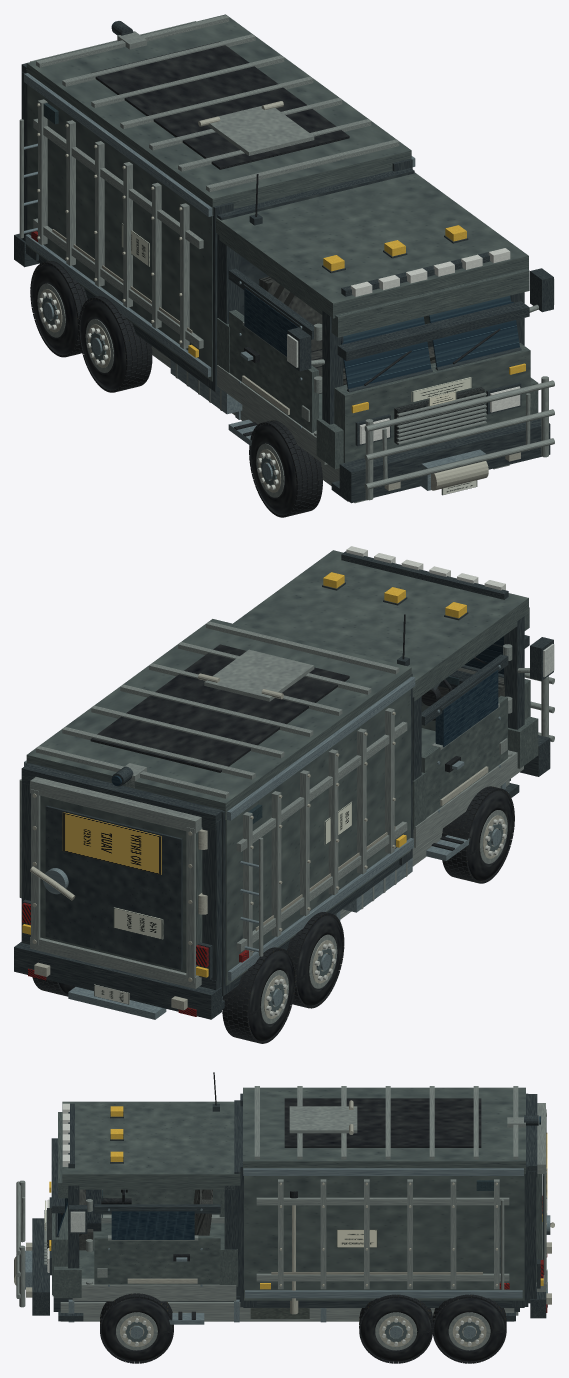
The model's file is PZ_Ironveil6_Armored_Truck_Hero.glb.
3 views of the same model, one above another, from view 1: azimuth 30°, elevation 25°; view 2: azimuth 150°, elevation 25°; view 3: azimuth 270°, elevation 25° (orthographic). The views are drawn at different scales.
Visible parts, largest first — view 1: CAB_ROOF_DOUBLE_SKIN, VAULT_ROOF_DOUBLE_ARMOR, VAULT_LEFT_SIDE_ARMOR, VAULT_ROOF_WALKWAY, CAB_COWL_FRONT, FRONT_BUMPER_ARMOR, CAB_ROOF_SLOPE_FRONT, CAB_DOOR_L_ARMOR_PANEL, CAB_FRONT_VISOR, VAULT_ROOF_HATCH_COVER, CAB_WINDSHIELD_L_BALLISTIC_GLASS, CAB_WINDSHIELD_R_BALLISTIC_GLASS (+44 smaller); view 2: CAB_ROOF_DOUBLE_SKIN, VAULT_ROOF_DOUBLE_ARMOR, VAULT_LEFT_SIDE_ARMOR, VAULT_DOOR_EXTERNAL_SAFETY_PANEL, VAULT_ROOF_WALKWAY, REAR_BUMPER_ARMOR, CAB_DOOR_L_ARMOR_PANEL, VAULT_DOOR_CAUTION_DECAL, VAULT_DOOR_MAIN_HEAVY_ARMOR, VAULT_ROOF_HATCH_COVER, VAULT_DOOR_FRAME_UPPER, VAULT_REAR_FRAME_TOP (+43 smaller); view 3: VAULT_RIGHT_SIDE_ARMOR, CAB_ROOF_DOUBLE_SKIN, VAULT_ROOF_DOUBLE_ARMOR, VAULT_ROOF_WALKWAY, CAB_DOOR_R_ARMOR_PANEL, CHASSIS_R_LONGITUDINAL_RAIL, CAB_R_BOTTOM_ROCKER, CAB_DOOR_R_GLASS_INSET, WHEEL_3_R_TIRE, WHEEL_2_R_TIRE, WHEEL_1_R_TIRE, VAULT_R_BOTTOM_EDGE_TRIM (+54 smaller).
Boxes of the visible parts, x1=… form: CAB_ROOF_DOUBLE_SKIN: x1=216, y1=172, x2=528, y2=318; VAULT_ROOF_DOUBLE_ARMOR: x1=26, y1=14, x2=411, y2=215; VAULT_LEFT_SIDE_ARMOR: x1=27, y1=85, x2=212, y2=381; VAULT_ROOF_WALKWAY: x1=91, y1=41, x2=349, y2=169; CAB_COWL_FRONT: x1=334, y1=343, x2=530, y2=462; FRONT_BUMPER_ARMOR: x1=339, y1=418, x2=550, y2=503; CAB_ROOF_SLOPE_FRONT: x1=331, y1=268, x2=529, y2=337; CAB_DOOR_L_ARMOR_PANEL: x1=229, y1=310, x2=318, y2=432; CAB_FRONT_VISOR: x1=337, y1=301, x2=529, y2=361; VAULT_ROOF_HATCH_COVER: x1=207, y1=106, x2=314, y2=155; CAB_WINDSHIELD_L_BALLISTIC_GLASS: x1=341, y1=316, x2=431, y2=389; CAB_WINDSHIELD_R_BALLISTIC_GLASS: x1=429, y1=295, x2=519, y2=368; CAB_ROOF_DOUBLE_SKIN: x1=233, y1=550, x2=528, y2=697; VAULT_ROOF_DOUBLE_ARMOR: x1=26, y1=619, x2=411, y2=819; VAULT_LEFT_SIDE_ARMOR: x1=225, y1=689, x2=410, y2=985; VAULT_DOOR_EXTERNAL_SAFETY_PANEL: x1=45, y1=805, x2=182, y2=969; VAULT_ROOF_WALKWAY: x1=90, y1=644, x2=349, y2=772; REAR_BUMPER_ARMOR: x1=14, y1=942, x2=221, y2=1019; CAB_DOOR_L_ARMOR_PANEL: x1=421, y1=695, x2=507, y2=817; VAULT_DOOR_CAUTION_DECAL: x1=62, y1=812, x2=161, y2=874; VAULT_DOOR_MAIN_HEAVY_ARMOR: x1=40, y1=796, x2=202, y2=975; VAULT_ROOF_HATCH_COVER: x1=204, y1=649, x2=314, y2=701; VAULT_DOOR_FRAME_UPPER: x1=30, y1=777, x2=202, y2=833; VAULT_REAR_FRAME_TOP: x1=21, y1=763, x2=223, y2=830; VAULT_RIGHT_SIDE_ARMOR: x1=244, y1=1174, x2=524, y2=1300; CAB_ROOF_DOUBLE_SKIN: x1=62, y1=1101, x2=240, y2=1185; VAULT_ROOF_DOUBLE_ARMOR: x1=243, y1=1087, x2=525, y2=1173; VAULT_ROOF_WALKWAY: x1=284, y1=1098, x2=481, y2=1147; CAB_DOOR_R_ARMOR_PANEL: x1=94, y1=1235, x2=220, y2=1284; CHASSIS_R_LONGITUDINAL_RAIL: x1=60, y1=1302, x2=514, y2=1321; CAB_R_BOTTOM_ROCKER: x1=72, y1=1278, x2=236, y2=1301; CAB_DOOR_R_GLASS_INSET: x1=111, y1=1211, x2=194, y2=1239; WHEEL_3_R_TIRE: x1=434, y1=1296, x2=504, y2=1361; WHEEL_2_R_TIRE: x1=361, y1=1296, x2=431, y2=1361; WHEEL_1_R_TIRE: x1=101, y1=1294, x2=172, y2=1361; VAULT_R_BOTTOM_EDGE_TRIM: x1=245, y1=1290, x2=522, y2=1298.
Size of the model in its own units: 3.08 by 3.36 by 7.37.
Materials: 1 (1 with a texture image).
